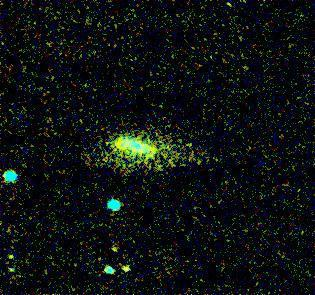star: (112, 252, 142, 282)
